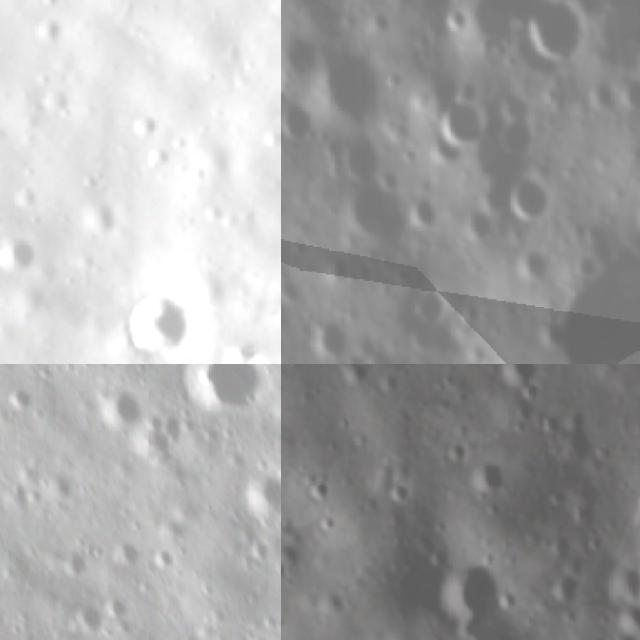crater: (150, 364, 281, 455), (96, 261, 207, 364), (332, 134, 403, 238), (78, 371, 156, 447), (432, 554, 510, 614), (227, 458, 281, 541), (520, 0, 586, 62), (96, 532, 156, 591), (0, 219, 48, 283), (60, 589, 120, 640), (204, 310, 258, 364), (52, 538, 105, 592), (492, 88, 534, 152), (438, 100, 481, 148), (512, 173, 549, 225), (281, 95, 316, 149), (403, 286, 450, 323), (468, 458, 512, 495), (600, 564, 640, 603), (447, 613, 503, 640), (262, 512, 281, 587), (608, 600, 640, 640), (302, 473, 338, 506), (313, 588, 350, 620), (541, 312, 572, 350), (440, 0, 469, 37), (0, 529, 16, 595), (549, 572, 580, 606), (332, 364, 372, 390), (503, 364, 540, 391), (386, 477, 416, 508), (439, 436, 472, 464), (0, 353, 78, 364), (315, 509, 343, 537), (548, 532, 575, 559), (281, 552, 289, 586)
